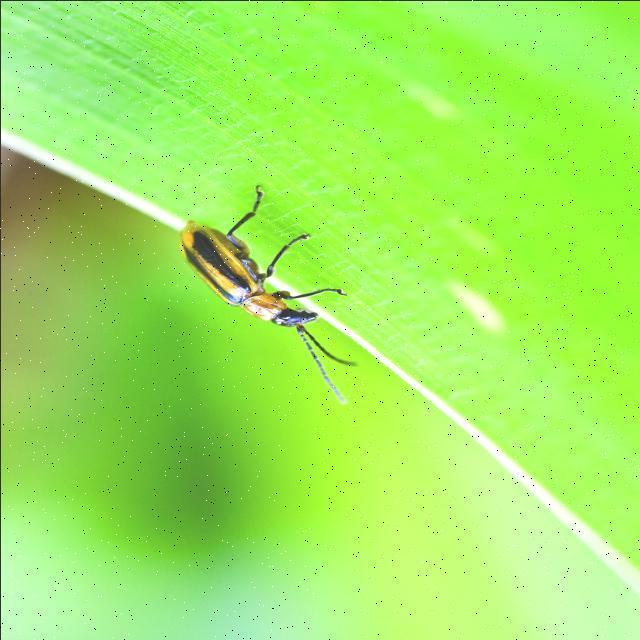trips: (180, 182, 357, 406)
